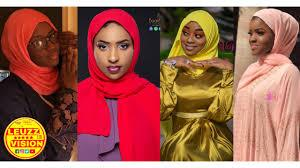No Mask: (84, 17, 146, 95), (21, 18, 69, 84), (175, 14, 216, 64), (245, 14, 283, 63)
